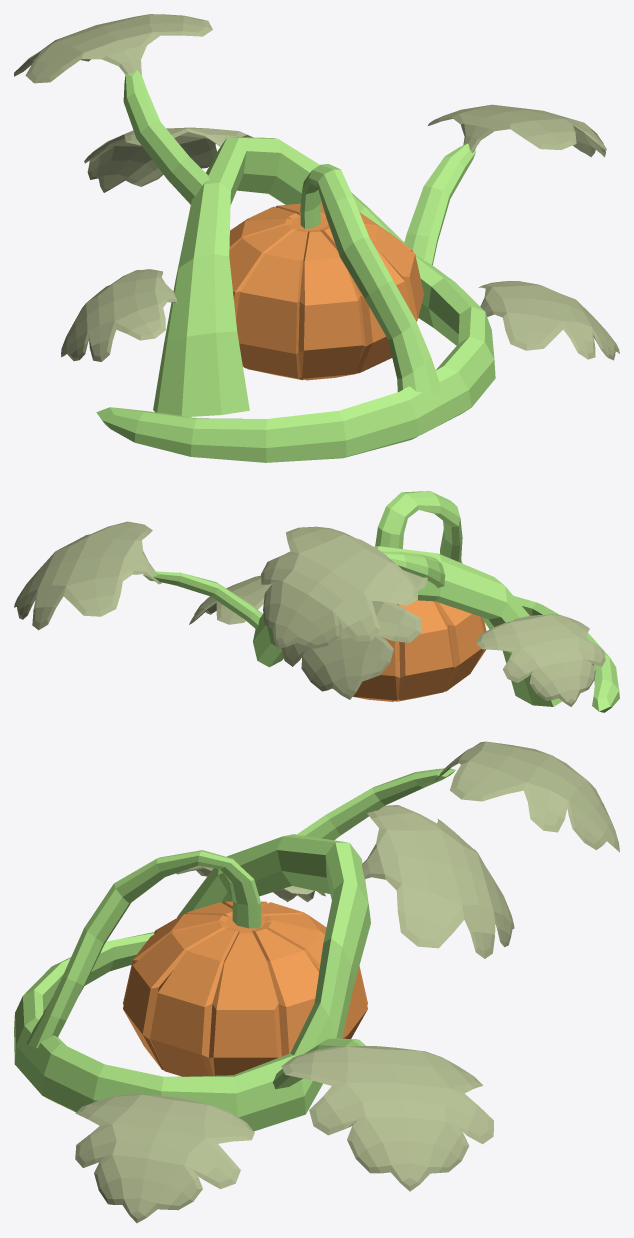
Rendered from pumpkin_4.glb.
The picture shows the model from 3 angles, top to bottom: view 1: azimuth 30°, elevation 25°; view 2: azimuth 150°, elevation 25°; view 3: azimuth 270°, elevation 25°; orthographic projection. The views are drawn at different scales.
Parts seen in each view (by area): view 1: Pumpkin_4; view 2: Pumpkin_4; view 3: Pumpkin_4.
Boxes of the visible parts, x1,y1,x2,y2 form: Pumpkin_4: (14,14,619,462); Pumpkin_4: (14,491,619,712); Pumpkin_4: (14,741,619,1223).
Bounding box in the file's own units: 1.29 × 0.59 × 1.08.
